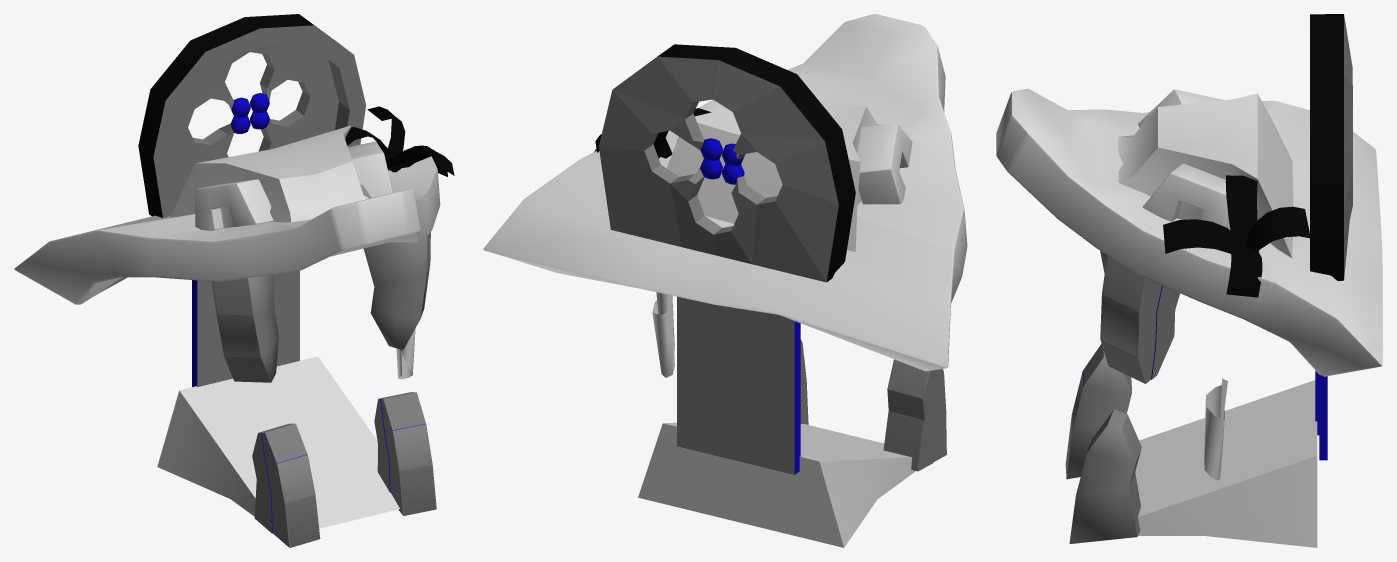
File: Cabezaserpiente 1.fbx
3 renders of one model, left to right at view 1: azimuth 30°, elevation 25°; view 2: azimuth 150°, elevation 25°; view 3: azimuth 270°, elevation 25°, orthographic. The views are drawn at different scales.
Parts seen in each view (by area): view 1: Object, Sphere002ed, Box004, Box002, colmillo_low006, colmillo_low004, colmillo_low005, colmillo_low, Box003, Box005, Box001, Plane004 (+2 smaller); view 2: Object, Sphere002ed, Box004, Box003, Box002, colmillo_low006, Box005, Plane007; view 3: Object, Box004, Box002, Sphere002ed, colmillo_low, colmillo_low005, colmillo_low006, Box001, Plane004, Plane002, Plane003, Plane007 (+3 smaller).
Part boxes in pixels (<box>): Object: <box>14,145,440,304</box>; Sphere002ed: <box>138,14,365,217</box>; Box004: <box>157,356,399,528</box>; Box002: <box>170,125,371,222</box>; colmillo_low006: <box>252,423,320,547</box>; colmillo_low004: <box>211,274,278,382</box>; colmillo_low005: <box>374,392,436,515</box>; colmillo_low: <box>363,232,430,350</box>; Box003: <box>192,270,299,386</box>; Box005: <box>195,179,273,230</box>; Box001: <box>348,141,392,197</box>; Plane004: <box>386,146,454,175</box>; Object: <box>483,14,967,371</box>; Sphere002ed: <box>598,44,855,282</box>; Box004: <box>638,422,915,547</box>; Box003: <box>677,296,800,474</box>; Box002: <box>666,98,882,251</box>; colmillo_low006: <box>883,359,946,471</box>; Box005: <box>857,123,912,204</box>; Plane007: <box>652,292,674,377</box>; Object: <box>996,88,1382,376</box>; Box004: <box>1135,380,1317,547</box>; Box002: <box>1118,93,1293,257</box>; Sphere002ed: <box>1310,14,1352,280</box>; colmillo_low: <box>1100,255,1179,383</box>; colmillo_low005: <box>1069,409,1141,543</box>; colmillo_low006: <box>1065,344,1131,479</box>; Box001: <box>1142,163,1230,230</box>; Plane004: <box>1163,219,1237,253</box>; Plane002: <box>1225,175,1257,246</box>; Plane003: <box>1246,206,1310,251</box>; Plane007: <box>1204,378,1227,480</box>.
Bounding box in the file's own units: 168 × 122 × 166.
